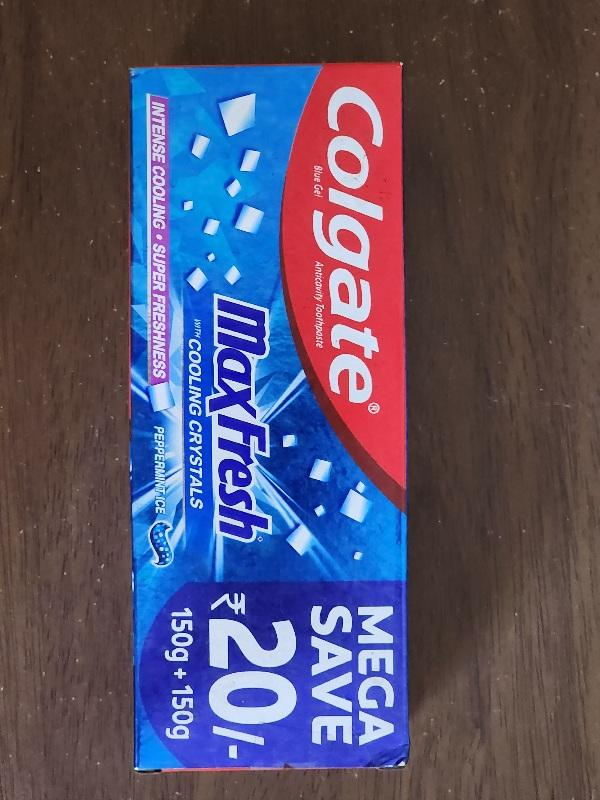Colgate: (131, 64, 403, 767)
